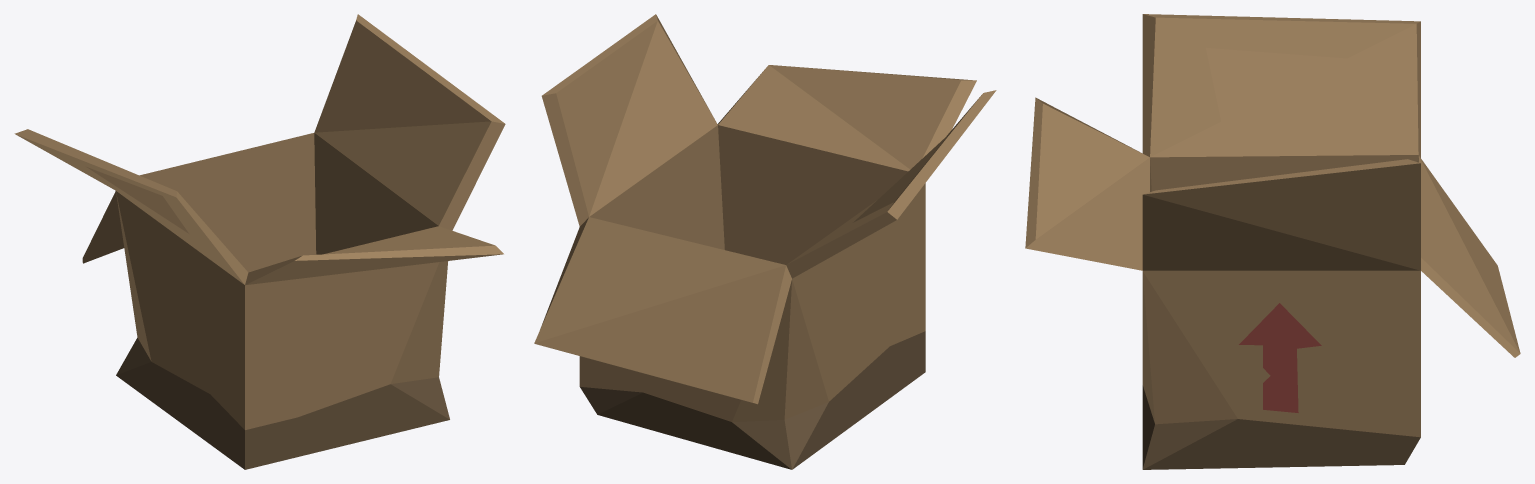
The model's file is SM_Prop_CardboardBox_03.glb.
3 renders of one model, left to right at view 1: azimuth 30°, elevation 25°; view 2: azimuth 150°, elevation 25°; view 3: azimuth 270°, elevation 25°, orthographic. The views are drawn at different scales.
Parts seen in each view (by area): view 1: SM_Prop_CardboardBox_03; view 2: SM_Prop_CardboardBox_03; view 3: SM_Prop_CardboardBox_03.
Part boxes in pixels (<box>): SM_Prop_CardboardBox_03: <box>14,14,505,469</box>; SM_Prop_CardboardBox_03: <box>534,14,996,469</box>; SM_Prop_CardboardBox_03: <box>1025,14,1520,469</box>.
Size of the model in its own units: 0.00975 by 0.00778 by 0.0107.
Materials: 1 (1 with a texture image).
